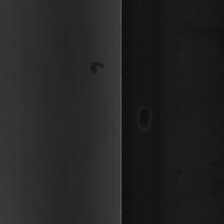oil_spot: (88, 56, 109, 81)
